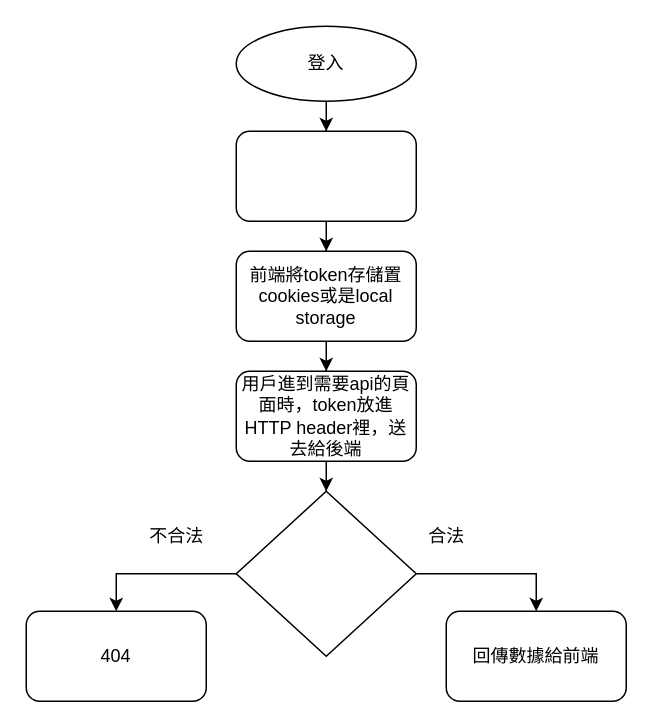
Image size: 653x728. Some labels were removed from this diagram. The centre of each missing label's shape, as x and y in pixels:
後端收到用戶傳來的token，驗證是否合法: the point at 325,573
後端生成token傳給前端: the point at 325,175
